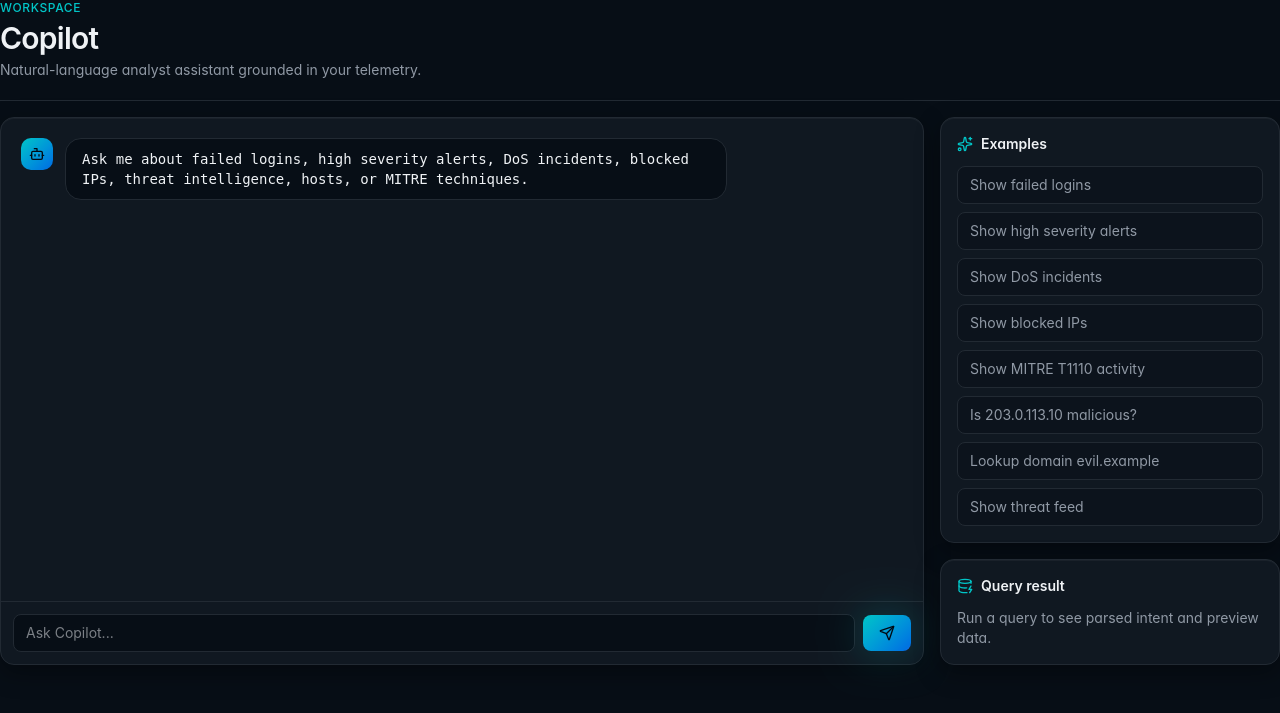
it: CopilotPage › runs query examples with mocked API results
Click the button "Show failed logins": click(1031, 184) [957,166,1263,204]
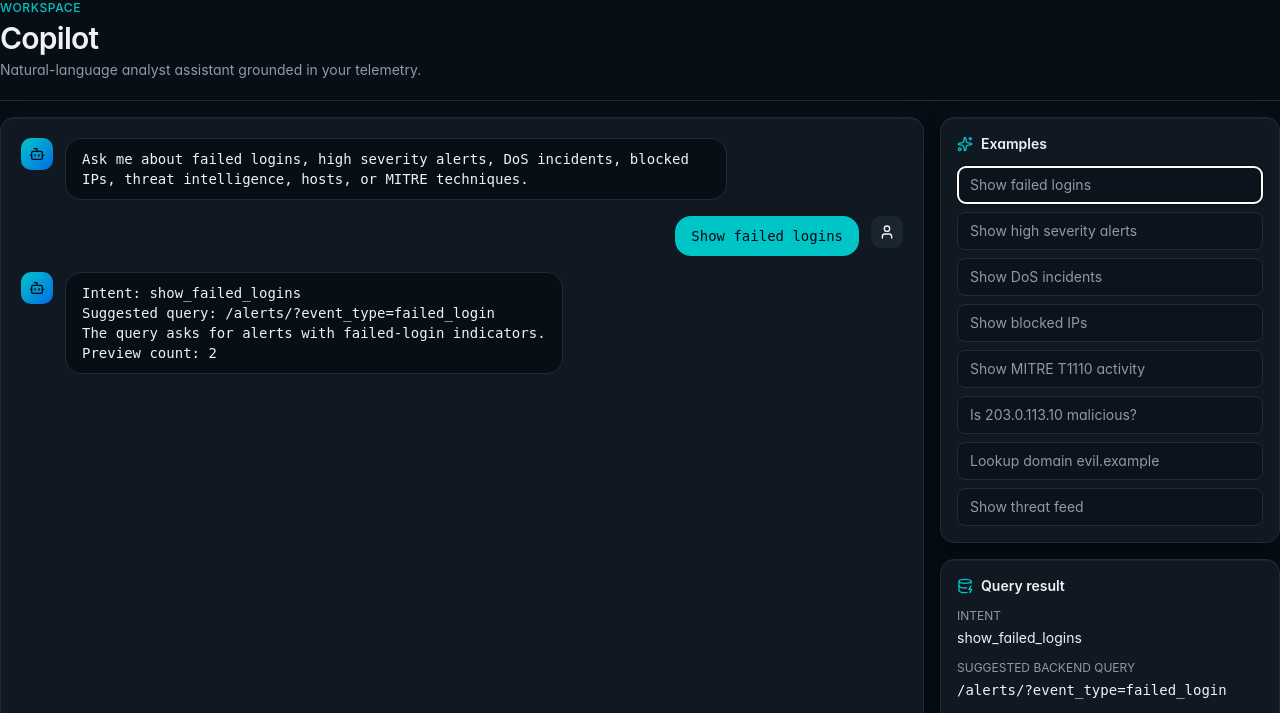
Now the text "show_failed_logins" is shown, box [957,629,1082,646]
Now the text "/alerts/?event_type=failed_login" is shown, box [957,680,1263,700]
